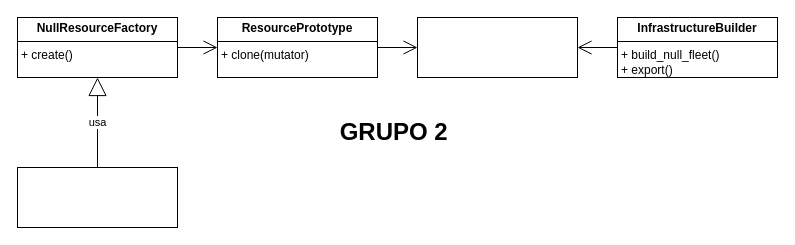
The diagram is 795 pixels wide and 245 high, and some of its shapes have lost their labels. The centre of each missing label's shape, as x and y in pixels:
"CompositeModule + add(block) + export()" belongs at pixel 497 47.
"ConfigSingleton + reset()" belongs at pixel 97 197.
